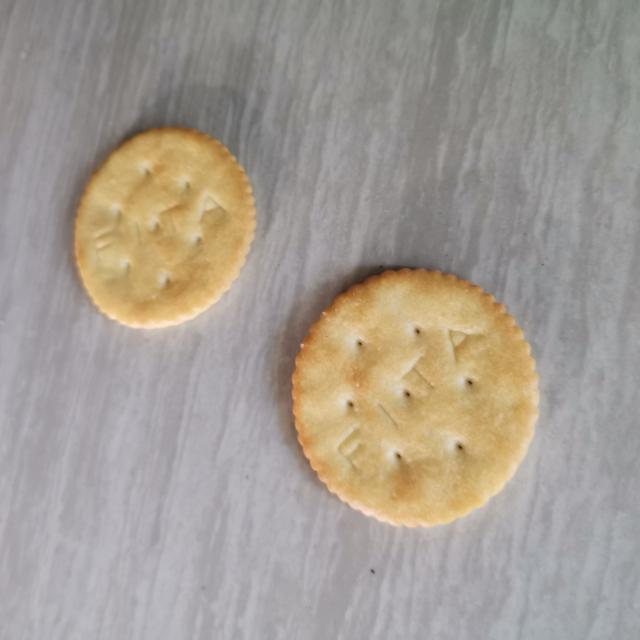Intact: (280, 252, 550, 534), (64, 118, 265, 341)
